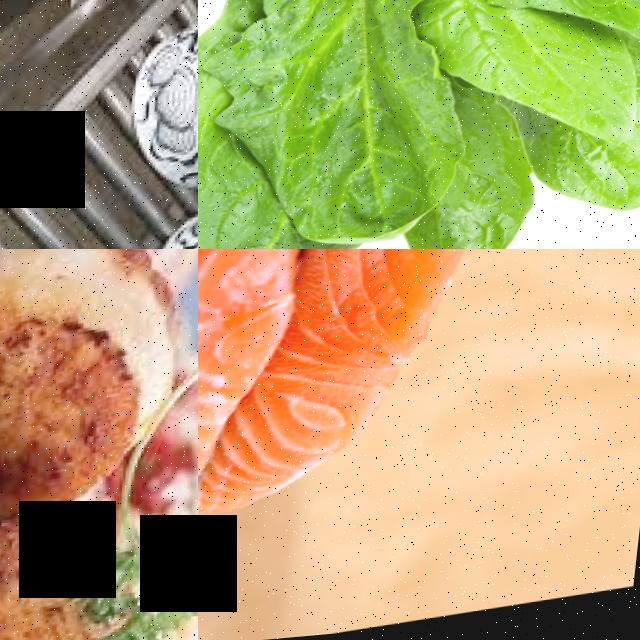salmon: (255, 249, 521, 455), (198, 249, 337, 490)
sea scallops: (0, 249, 195, 511), (0, 510, 111, 640)
spinach: (277, 0, 478, 249), (466, 16, 612, 127), (445, 178, 561, 249), (546, 144, 640, 230)
